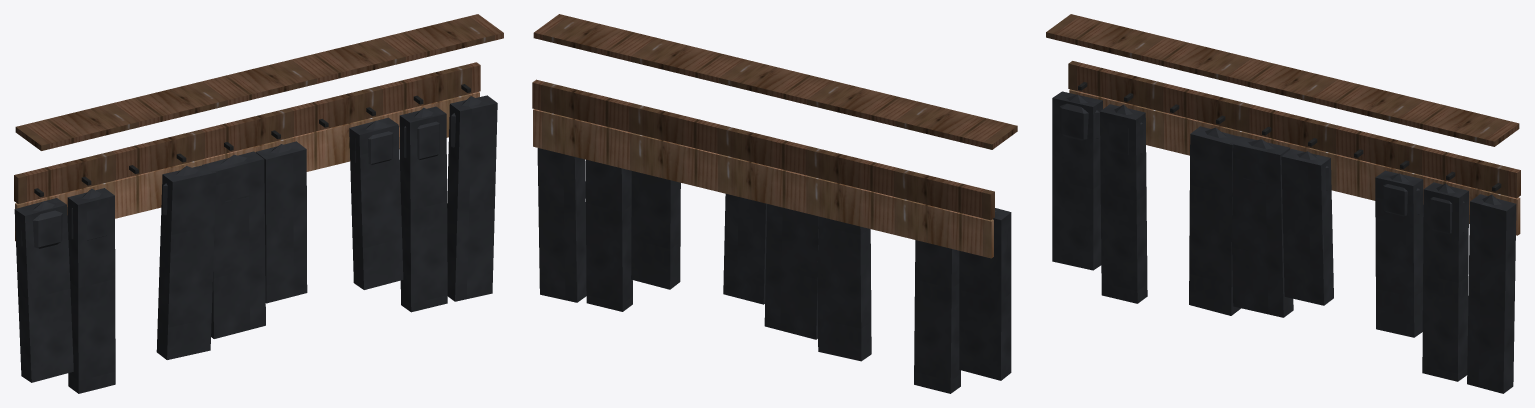
Rendered from CoatRack.obj.
The picture shows the model from 3 angles, left to right: view 1: azimuth 30°, elevation 25°; view 2: azimuth 150°, elevation 25°; view 3: azimuth 330°, elevation 25°; orthographic projection. The views are drawn at different scales.
Parts seen in each view (by area): view 1: coats, board, shelf, hooks; view 2: coats, board, shelf; view 3: coats, board, shelf, hooks.
Part boxes in pixels (x1,y1,x2,y2): coats: (14, 95, 497, 393); board: (14, 62, 480, 241); shelf: (15, 14, 503, 150); hooks: (34, 84, 470, 197); coats: (537, 148, 1011, 393); board: (532, 79, 994, 258); shelf: (533, 14, 1017, 149); coats: (1052, 91, 1516, 393); board: (1068, 61, 1520, 235); shelf: (1046, 14, 1519, 146); hooks: (1078, 82, 1501, 191).
Size of the model in its own units: 2.65 by 1.44 by 0.265.
4 materials, 4 textured.
